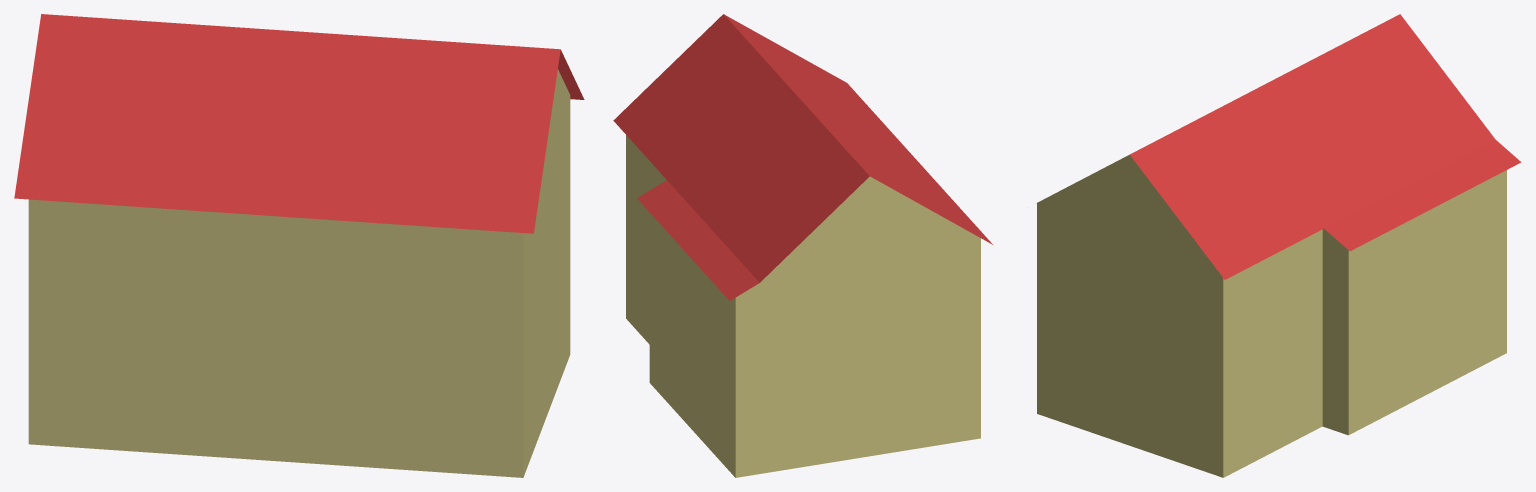
The picture shows the model from 3 angles, left to right: view 1: azimuth 30°, elevation 25°; view 2: azimuth 150°, elevation 25°; view 3: azimuth 270°, elevation 25°; orthographic projection. The views are drawn at different scales.
Size of the model in its own units: 24.2 by 24.28 by 15.93.
